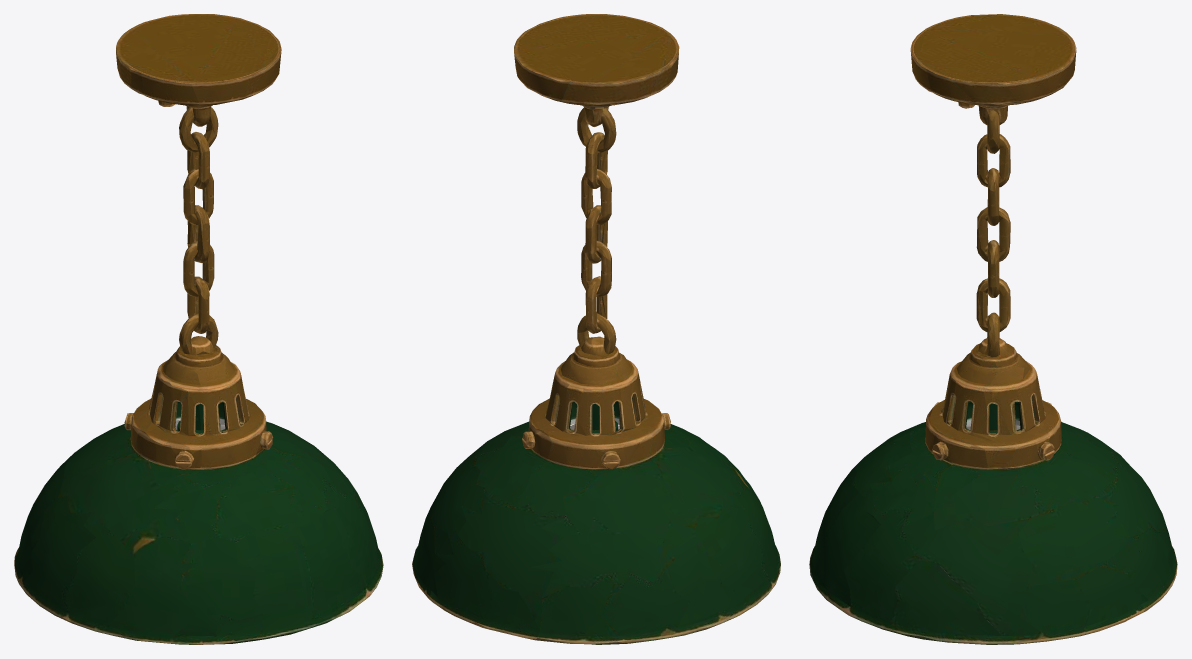
Rendered from lamp.glb.
3 views of the same model, side by side, from view 1: azimuth 30°, elevation 25°; view 2: azimuth 150°, elevation 25°; view 3: azimuth 270°, elevation 25° (orthographic).
Parts seen in each view (by area): view 1: Mesh_0; view 2: Mesh_0; view 3: Mesh_0.
Boxes of the visible parts, <box> form: Mesh_0: <box>14,14,383,644</box>; Mesh_0: <box>412,14,780,644</box>; Mesh_0: <box>809,14,1177,644</box>.
Bounding box in the file's own units: 1.11 × 1.9 × 1.11.
1 material, 1 textured.
